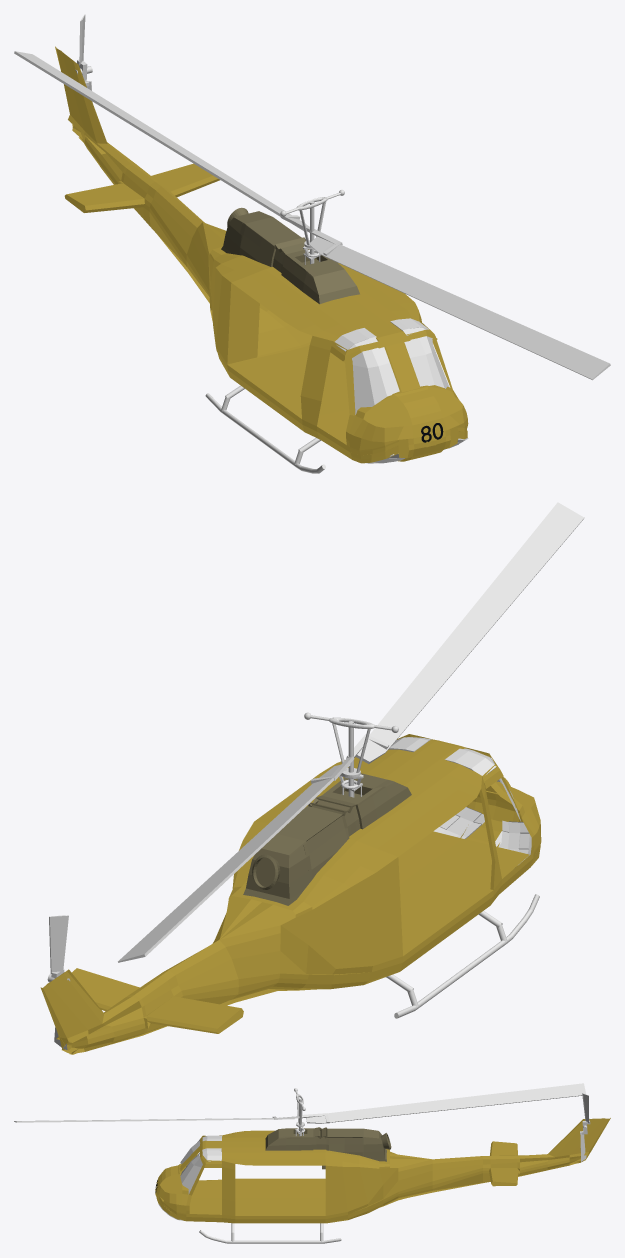
Rendered from bell205uh1.fbx.
The picture shows the model from 3 angles, top to bottom: view 1: azimuth 30°, elevation 25°; view 2: azimuth 150°, elevation 25°; view 3: azimuth 270°, elevation 25°; orthographic projection. The views are drawn at different scales.
Visible parts, largest first — view 1: fuselage, BladeA, engine, BladeB, rightFrontShield, leftFrontShield, LeftLandingSky.001; view 2: fuselage, engine, BladeA, BladeB, LeftLandingSky.001, TailBladeA.001, bottomLeftWindow, bottomRightWindow, leftTopWindow; view 3: fuselage, BladeB, engine, BladeA, LeftLandingSky, leftFrontShield, rightTopWindow.
Boxes of the visible parts, left/top/right/bottom form: fuselage: left=55, top=46, right=468, bottom=463; BladeA: left=309, top=236, right=610, bottom=380; engine: left=221, top=207, right=359, bottom=304; BladeB: left=14, top=51, right=309, bottom=230; rightFrontShield: left=352, top=347, right=399, bottom=414; leftFrontShield: left=404, top=336, right=449, bottom=388; LeftLandingSky.001: left=205, top=393, right=325, bottom=473; fuselage: left=40, top=734, right=541, bottom=1054; engine: left=243, top=773, right=411, bottom=905; BladeA: left=355, top=502, right=584, bottom=763; BladeB: left=118, top=764, right=350, bottom=962; LeftLandingSky.001: left=394, top=894, right=539, bottom=1018; TailBladeA.001: left=49, top=915, right=68, bottom=973; bottomLeftWindow: left=433, top=807, right=484, bottom=838; bottomRightWindow: left=495, top=820, right=531, bottom=864; leftTopWindow: left=445, top=748, right=496, bottom=775; fuselage: left=155, top=1118, right=610, bottom=1223; BladeB: left=306, top=1083, right=586, bottom=1123; engine: left=265, top=1127, right=391, bottom=1169; BladeA: left=14, top=1118, right=294, bottom=1122; LeftLandingSky: left=199, top=1230, right=341, bottom=1243; leftFrontShield: left=180, top=1153, right=202, bottom=1194; rightTopWindow: left=202, top=1148, right=221, bottom=1161.
Size of the model in its own units: 217 by 319 by 1307.
